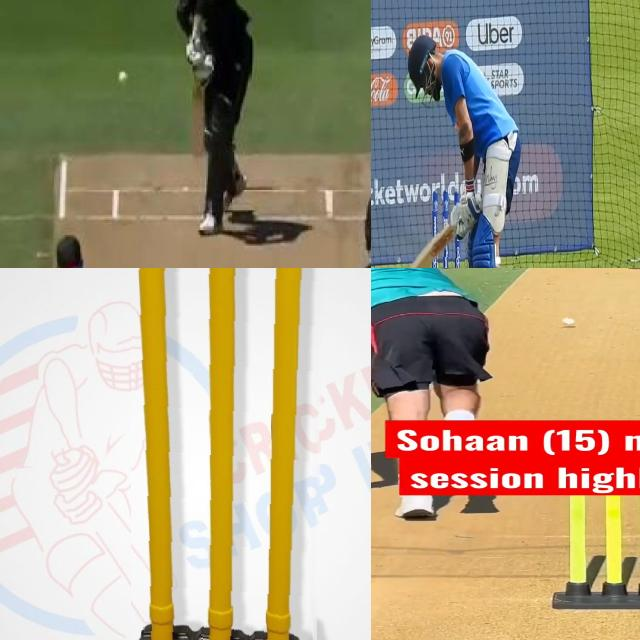Cricket ball: (117, 69, 130, 87), (560, 316, 576, 326)
Stumps: (131, 268, 327, 640), (431, 188, 467, 268)
